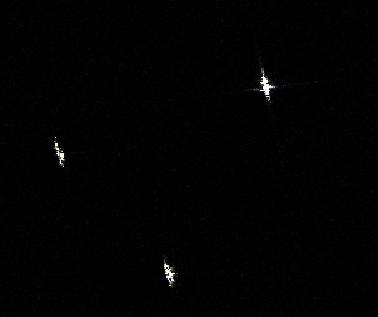ship: (258, 74, 276, 100), (52, 140, 68, 168), (161, 262, 178, 287)
